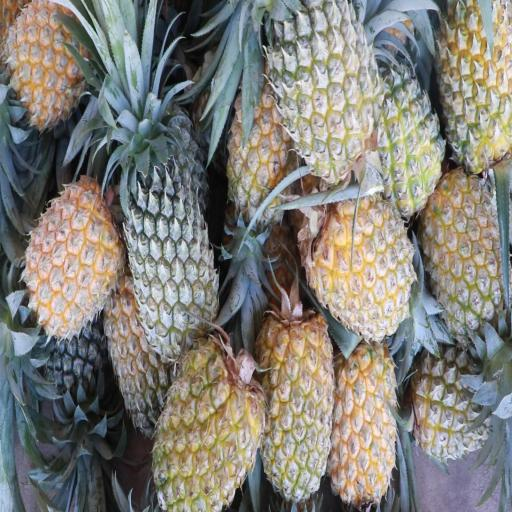------------------------------: (270, 0, 377, 175), (432, 180, 508, 324), (446, 2, 511, 170), (111, 284, 175, 438), (412, 344, 494, 457)
Pineapple - v8 v1: (152, 344, 268, 511), (312, 180, 414, 328), (258, 310, 332, 496), (31, 186, 123, 330), (5, 0, 95, 117), (333, 340, 397, 495), (374, 72, 443, 209), (228, 80, 292, 222)
